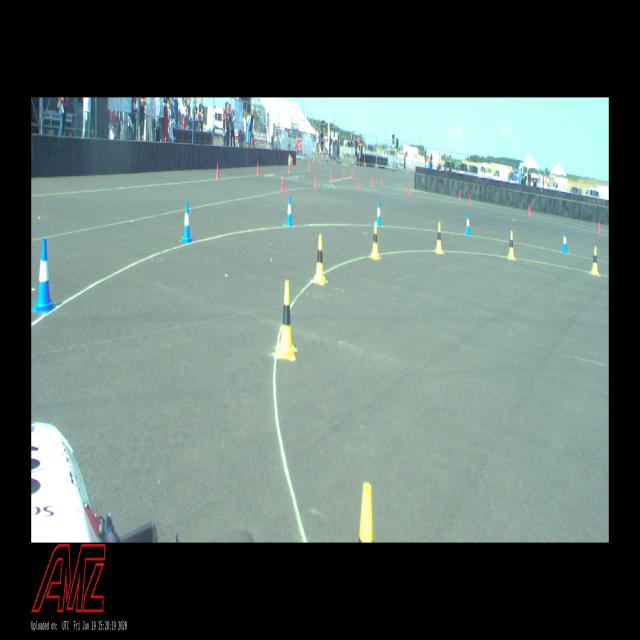blue_cone: (31, 238, 56, 314), (180, 201, 192, 243), (285, 196, 293, 226), (562, 230, 568, 253), (465, 212, 470, 235), (377, 201, 381, 226)
unknown_cone: (281, 175, 284, 193), (216, 162, 219, 179), (314, 174, 317, 188), (468, 193, 471, 206), (597, 221, 600, 233), (458, 190, 461, 200), (408, 182, 410, 196), (257, 162, 259, 175), (330, 170, 332, 182), (357, 178, 359, 190), (288, 162, 290, 173), (370, 176, 372, 187), (527, 206, 529, 217), (529, 203, 531, 214), (342, 170, 344, 179), (381, 176, 383, 185), (308, 162, 310, 170)
yellow_cone: (277, 280, 295, 360), (313, 234, 325, 284), (371, 222, 379, 258), (507, 231, 515, 259), (591, 247, 599, 275), (435, 223, 442, 253)
